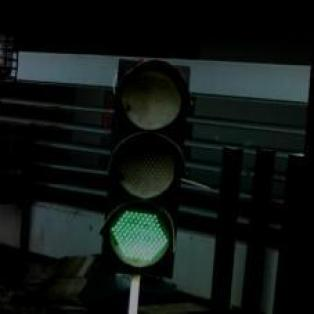Semaforo Verde: (102, 56, 198, 276)
